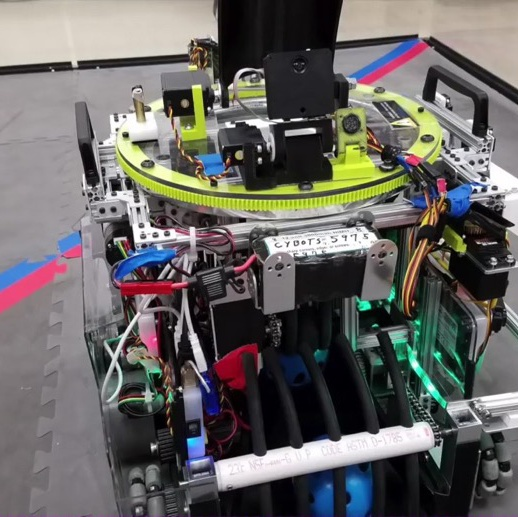robot: (57, 3, 514, 512)
